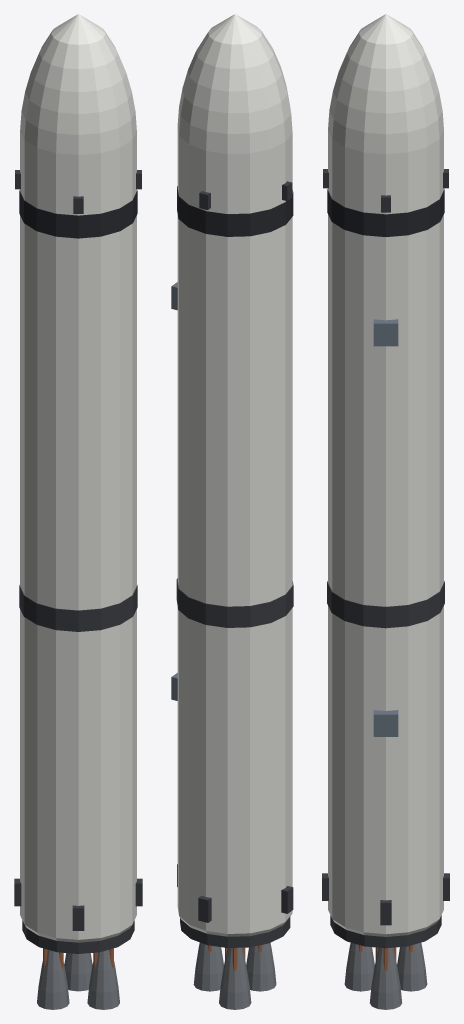
File: Booster_M.fbx
3 renders of one model, left to right at view 1: azimuth 90°, elevation 25°; view 2: azimuth 150°, elevation 25°; view 3: azimuth 270°, elevation 25°, orthographic.
Visible parts, largest first — view 1: Booster_M; view 2: Booster_M; view 3: Booster_M.
Boxes of the visible parts, x1,y1,x2,y2 form: Booster_M: (14,14,142,1009); Booster_M: (171,14,293,1009); Booster_M: (322,14,449,1009).
Size of the model in its own units: 1.57 by 13 by 1.54.
1 material, 1 textured.
